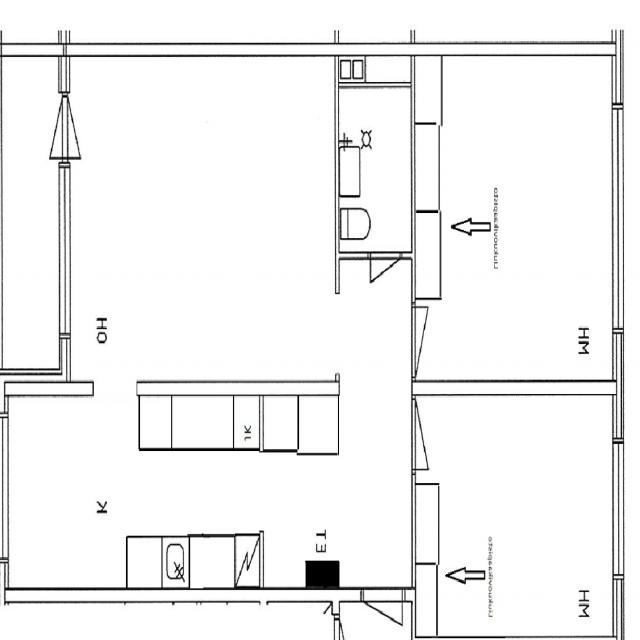door: (412, 398, 454, 470), (59, 92, 105, 157), (24, 92, 70, 157), (412, 307, 454, 377), (371, 251, 400, 312)
